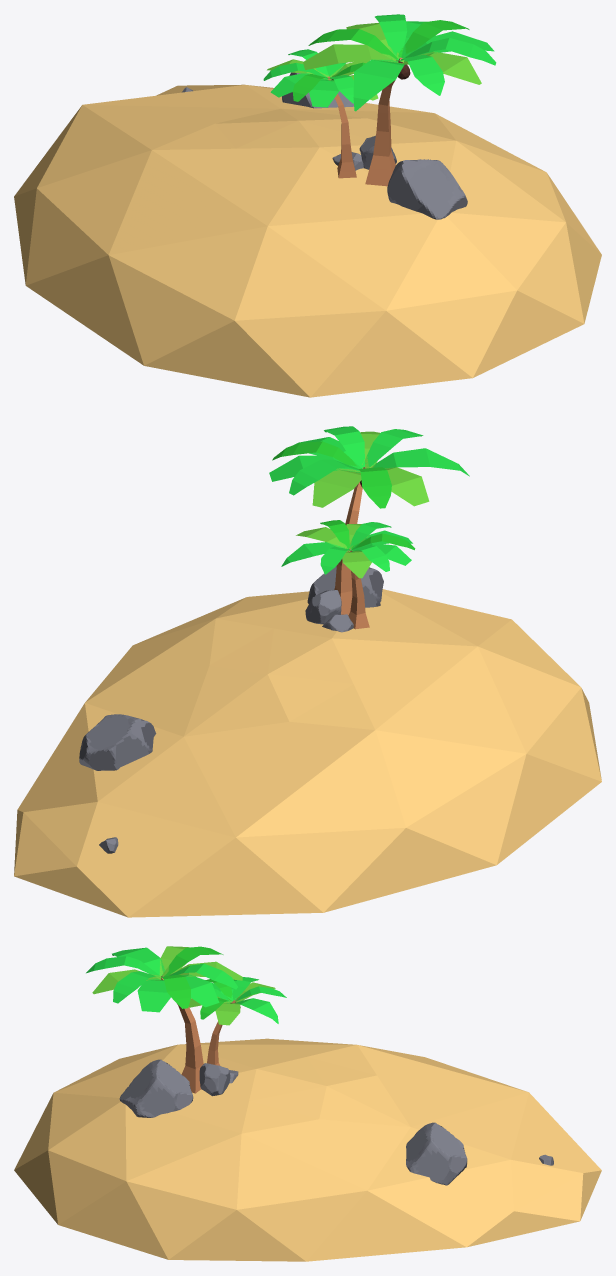
File: Island.glb
3 renders of one model, top to bottom at view 1: azimuth 30°, elevation 25°; view 2: azimuth 150°, elevation 25°; view 3: azimuth 270°, elevation 25°, orthographic. The views are drawn at different scales.
Parts seen in each view (by area): view 1: Icosphere, COCO TREE, COCO TREE.001, Cube.004, Cube.003; view 2: Icosphere, COCO TREE, COCO TREE.001, Cube.003, Cube.004, Cube.001; view 3: Icosphere, COCO TREE, Cube.004, Cube.003, COCO TREE.001, Cube.001.
Boxes of the visible parts, <box> form: Icosphere: <box>14,84,601,397</box>; COCO TREE: <box>303,14,496,186</box>; COCO TREE.001: <box>263,49,395,178</box>; Cube.004: <box>387,159,467,219</box>; Cube.003: <box>282,72,353,108</box>; Icosphere: <box>14,589,601,917</box>; COCO TREE: <box>269,426,469,615</box>; COCO TREE.001: <box>281,520,415,629</box>; Cube.003: <box>79,714,156,770</box>; Cube.004: <box>307,565,383,607</box>; Cube.001: <box>305,590,341,624</box>; Icosphere: <box>14,1038,601,1261</box>; COCO TREE: <box>86,946,242,1093</box>; Cube.004: <box>119,1059,193,1117</box>; Cube.003: <box>406,1122,467,1185</box>; COCO TREE.001: <box>189,977,286,1065</box>; Cube.001: <box>199,1063,230,1096</box>.
Size of the model in its own units: 11.47 by 6.44 by 15.58.
Materials: 3 (3 with a texture image).
